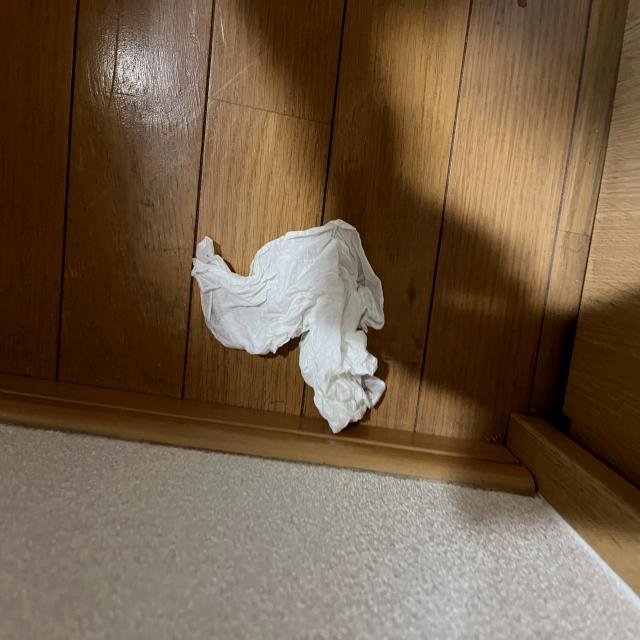Paper: (189, 180, 411, 465)
